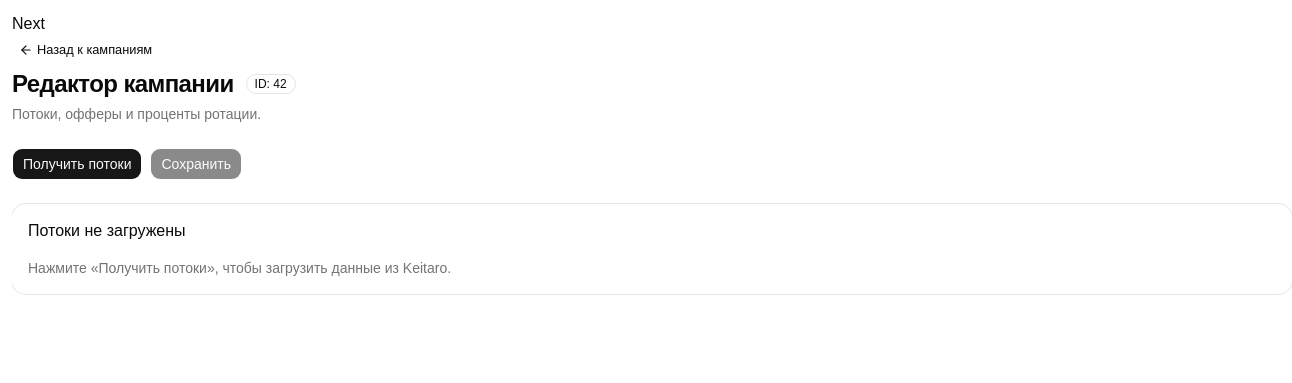
it: CampaignEditPage › deletes the last active offer, restores, toggles lock, and saves authoritative results
The image size is (1292, 383).
Expected: the button "Сохранить" is disabled, [150,148,242,180]
Step 1. Click the button "Получить потоки" → (77, 164), box [12,148,142,180]
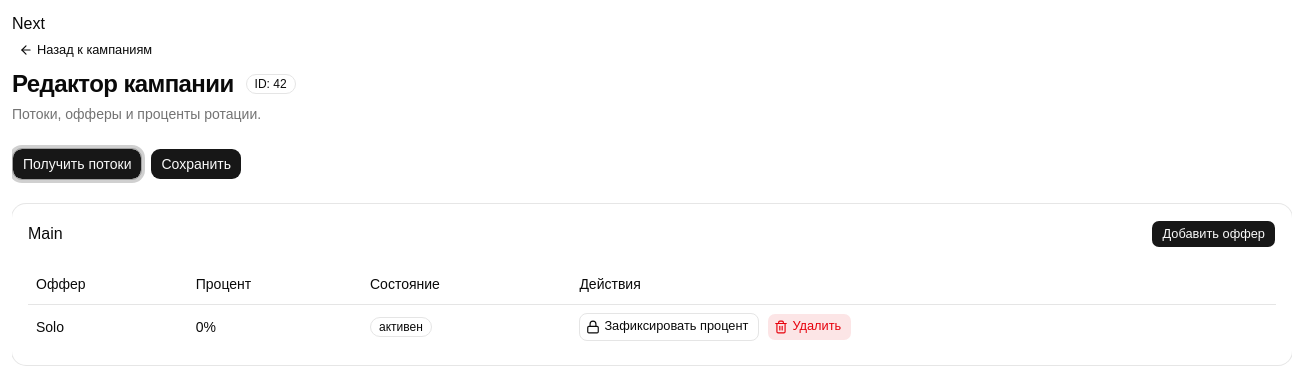
Step 2. Click the button "Удалить" → (810, 326), box [767,312,852,340]
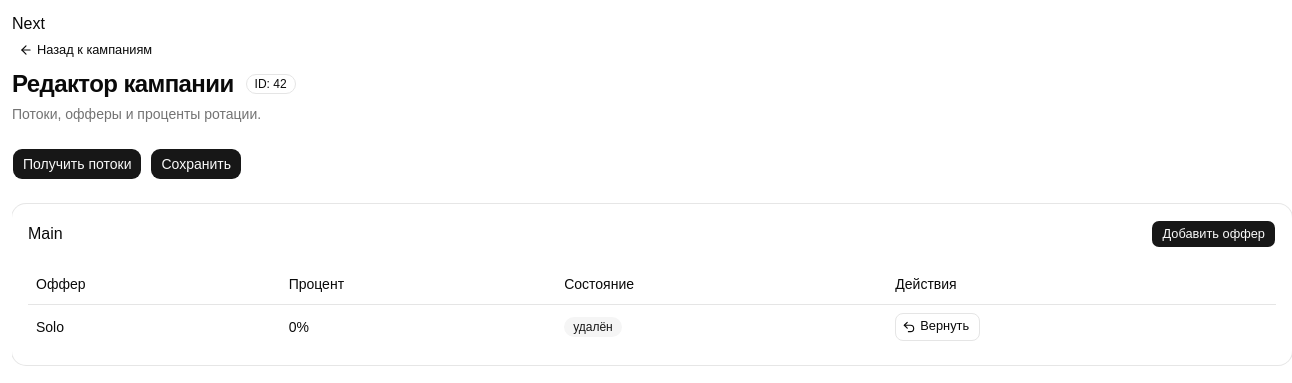
Expected: the icon "удалён" is shown, [564,317,622,337]
Step 3. Click the button "Вернуть" → (938, 326), box [895,312,980,340]
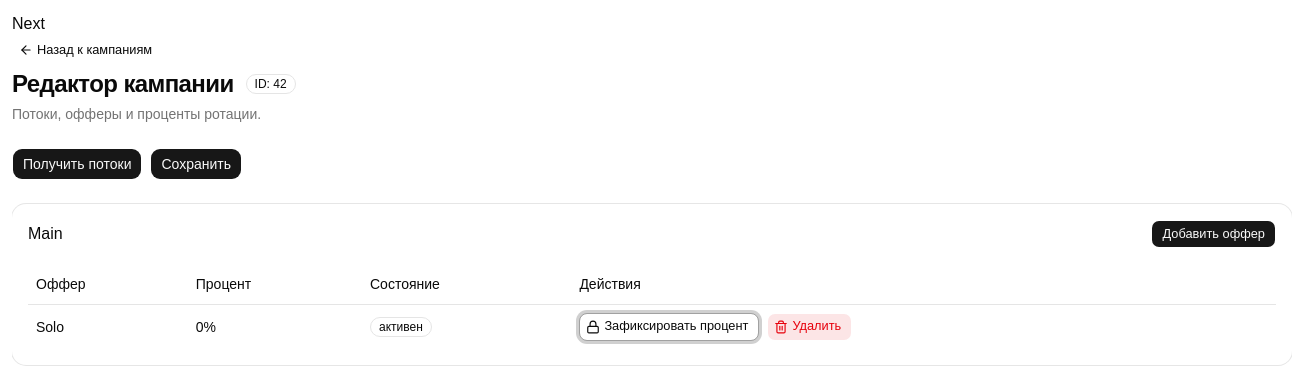
Step 4. Click the button "Зафиксировать процент" → (669, 326), box [579,312,759,340]
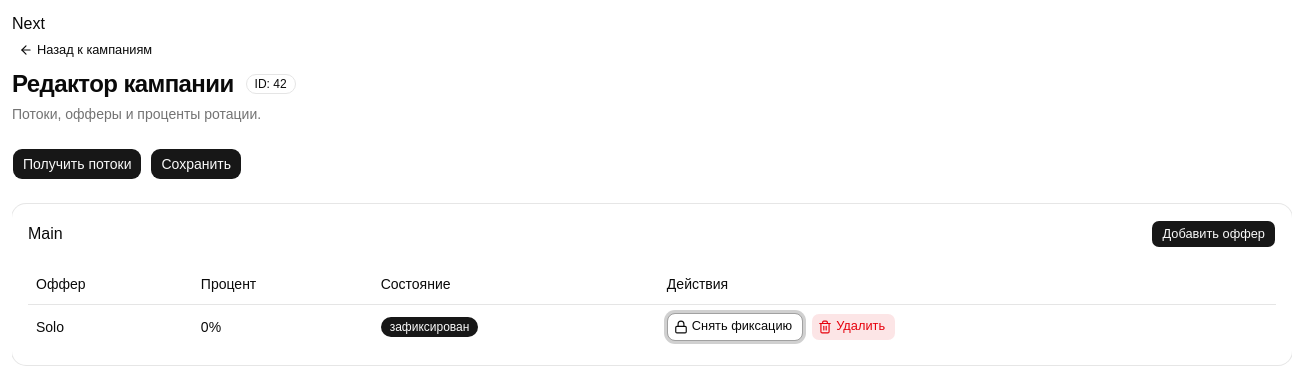
Step 5. Click the button "Снять фиксацию" → (735, 326), box [667,312,803,340]
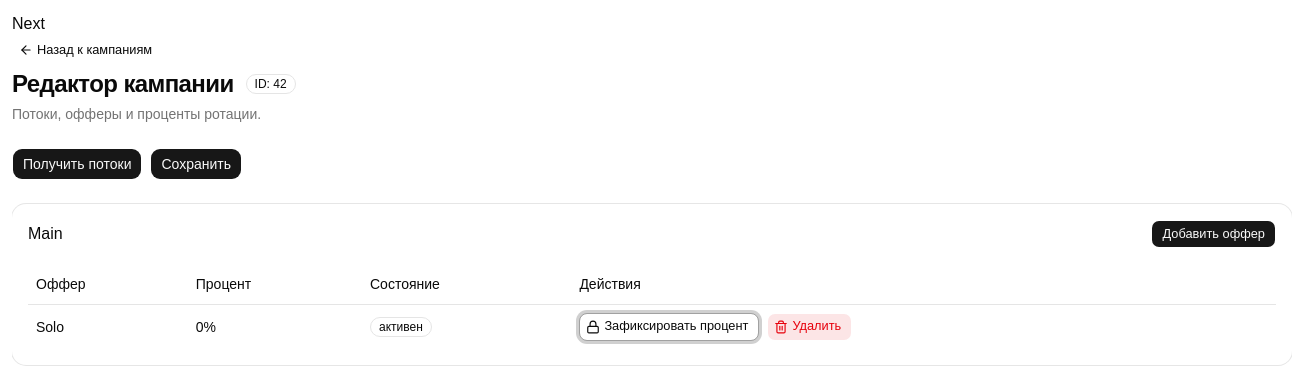
Expected: the text "активен" is shown, [370,317,432,337]
Step 6. Click the button "Сохранить" → (196, 164), box [150,148,242,180]
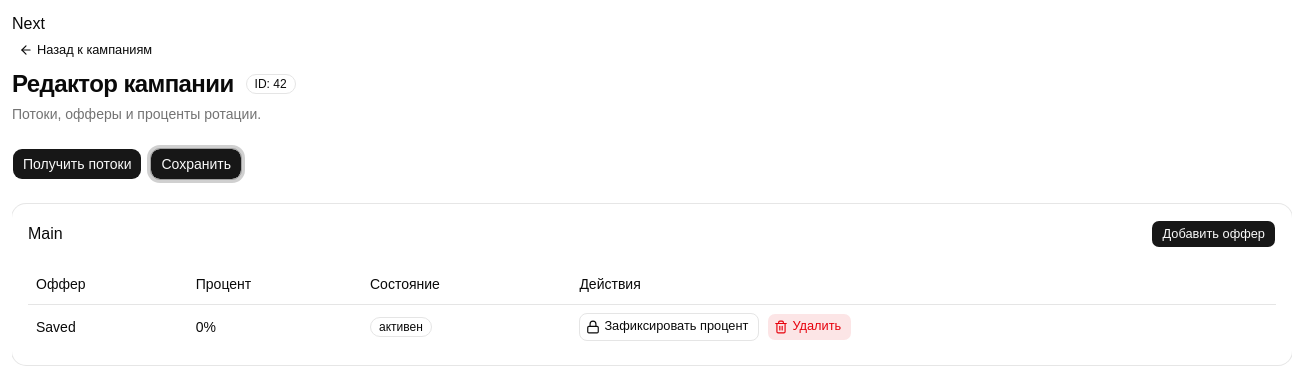
Expected: the text "Saved" is shown, [28,304,188,348]
